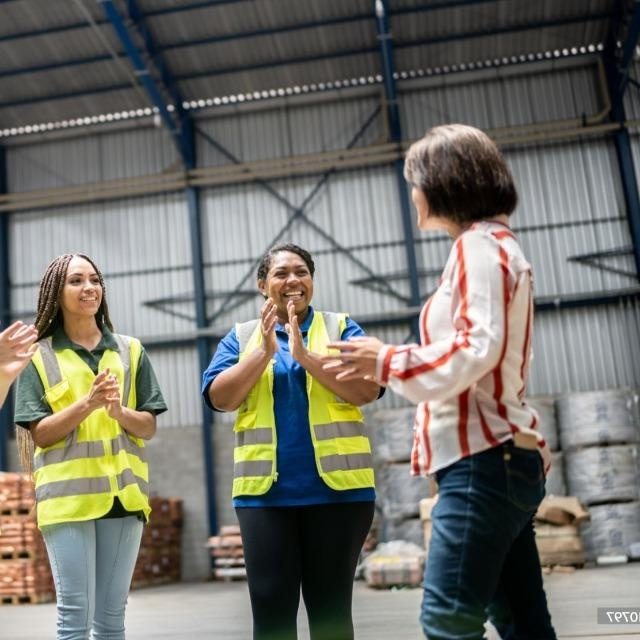Con_Chaleco: (224, 310, 365, 502), (20, 332, 149, 527)
Sin_Casco_Mascarrilla: (404, 120, 514, 232), (39, 253, 107, 333), (254, 242, 314, 313)
Sin_Chaleco: (404, 233, 545, 467)
